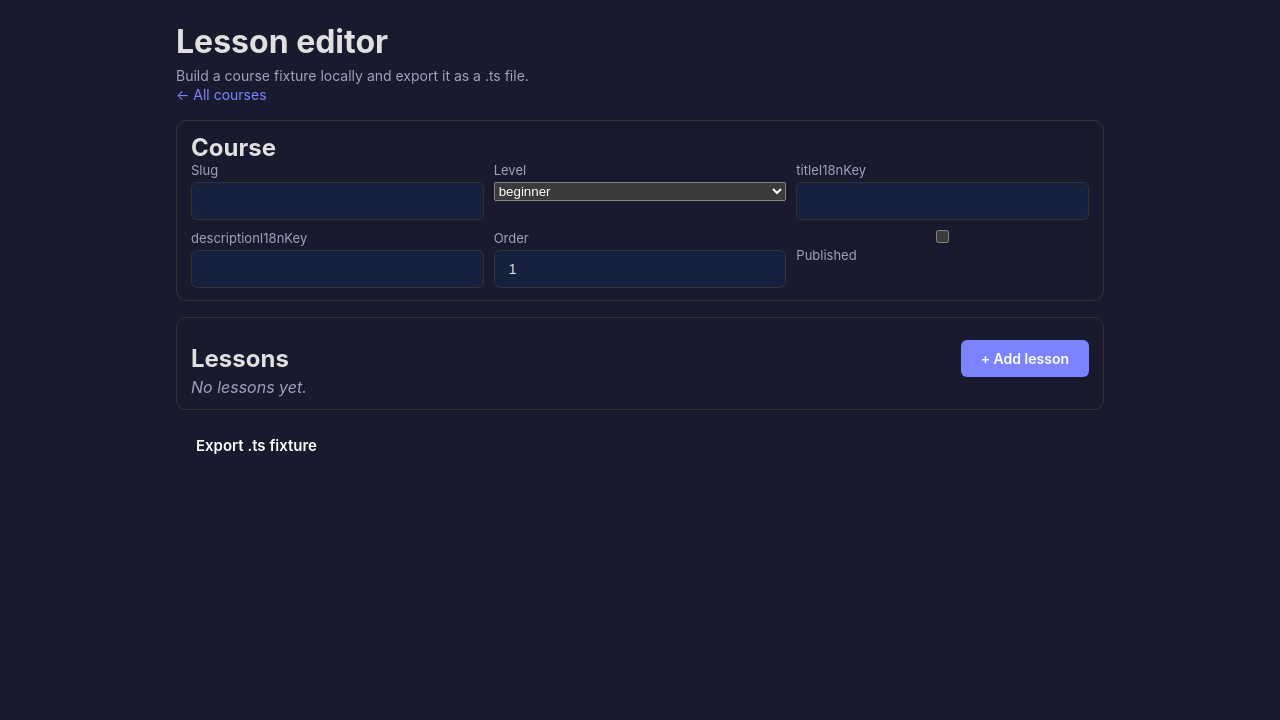
Test: <LessonEditorPage> › добавление урока → появляется в списке
Click the button with test id "editor-add-lesson".
click(1025, 358)  # box [961,340,1089,377]
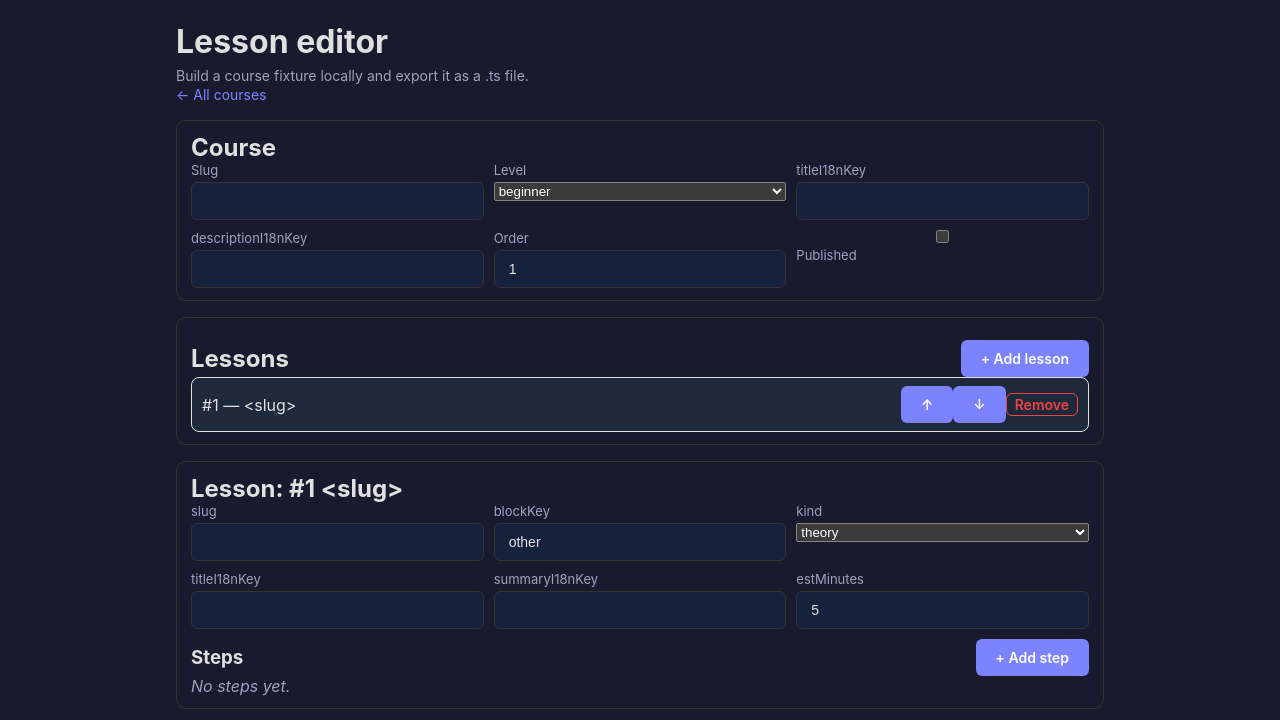
Now the text with test id "editor-lessons-empty" is gone
Now the field with test id "editor-lesson-slug" is shown, box [191,523,484,561]
